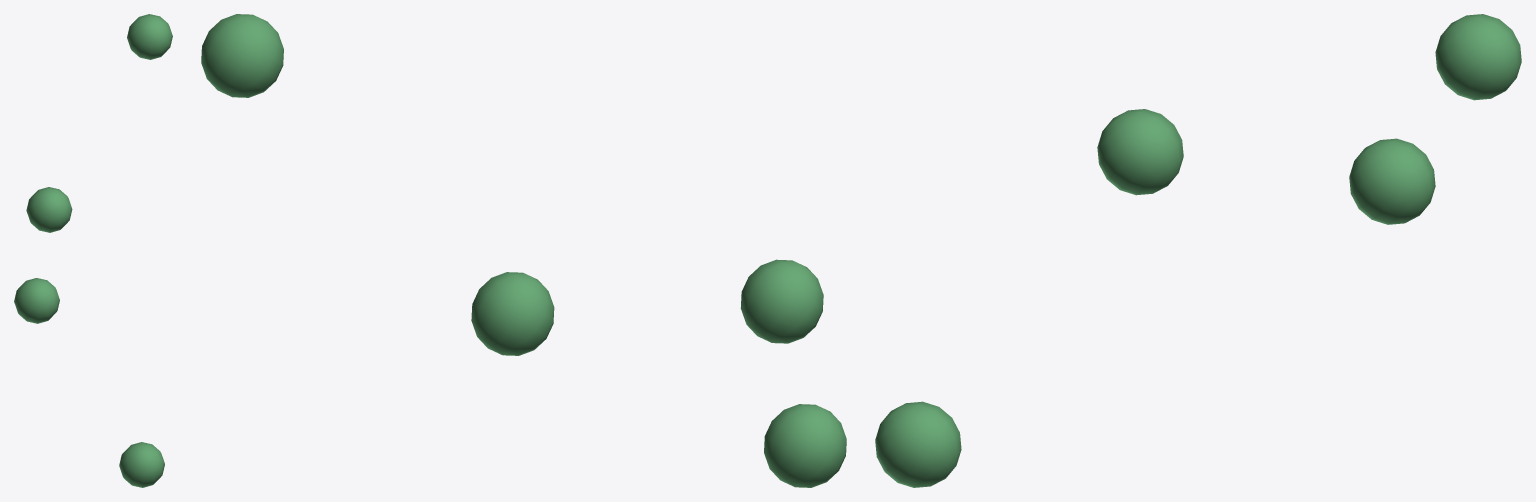
The picture shows the model from 3 angles, left to right: view 1: azimuth 30°, elevation 25°; view 2: azimuth 150°, elevation 25°; view 3: azimuth 270°, elevation 25°; orthographic projection. The views are drawn at different scales.
Visible parts, largest first — view 1: 左侧臀上淋巴结; view 2: 左侧臀上淋巴结; view 3: 左侧臀上淋巴结.
Boxes of the visible parts, bbox=[...] form: 左侧臀上淋巴结: bbox=[14, 14, 172, 487]; 左侧臀上淋巴结: bbox=[201, 14, 846, 487]; 左侧臀上淋巴结: bbox=[875, 14, 1521, 487].
Size of the model in its own units: 0.0232 by 0.0296 by 0.0285.
